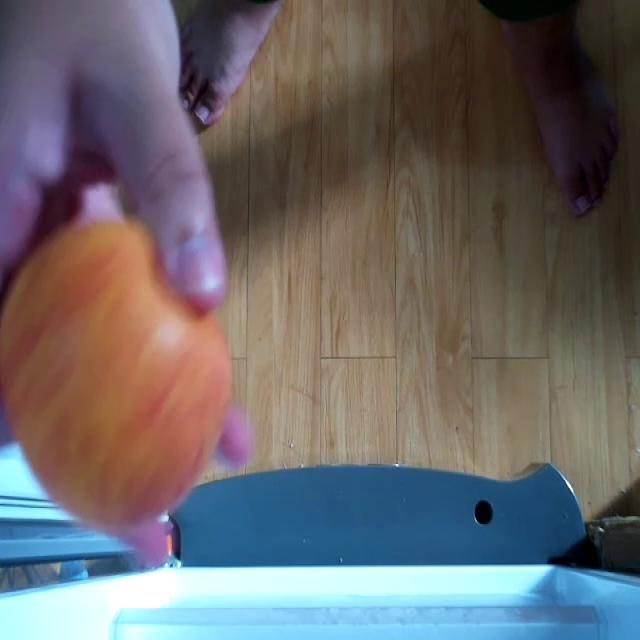apple: (0, 220, 230, 532)
